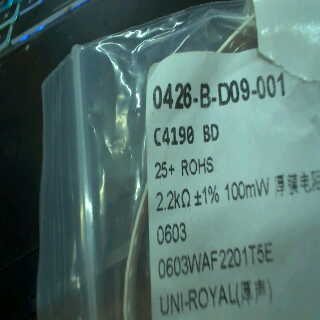2.2kR: (152, 184, 193, 214)
